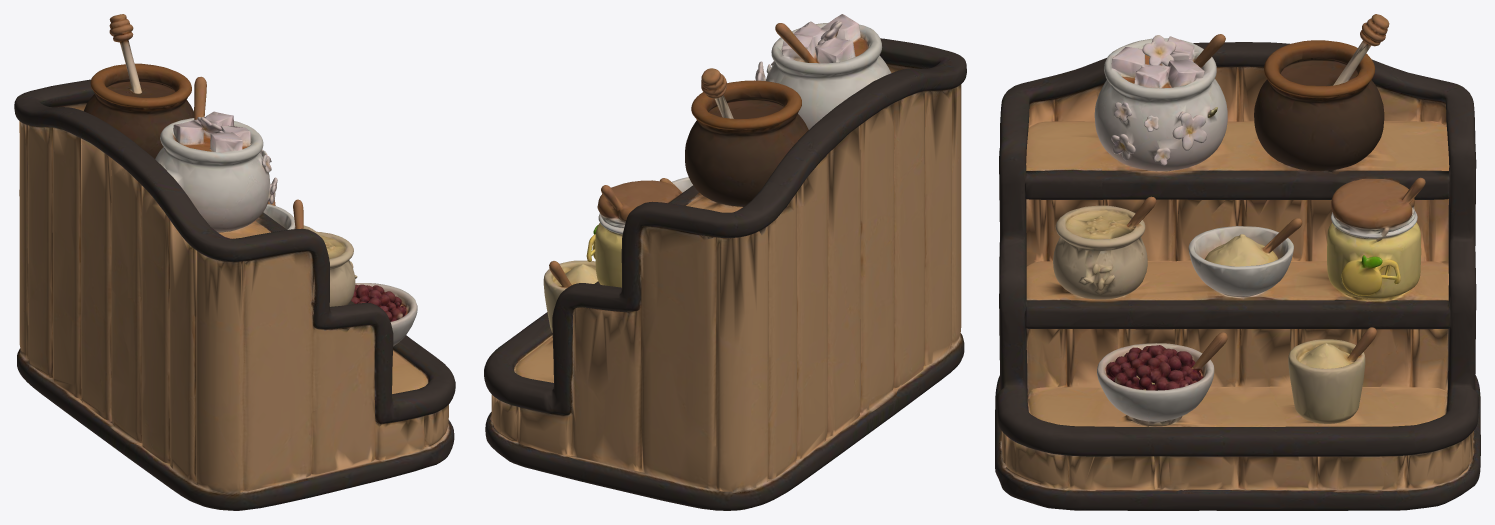
File: JP_사물_s2_station_topping_t3_old.glb
3 views of the same model, side by side, from view 1: azimuth 30°, elevation 25°; view 2: azimuth 150°, elevation 25°; view 3: azimuth 270°, elevation 25° (orthographic). The views are drawn at different scales.
Parts seen in each view (by area): view 1: tripo_node_412acc10-7cab-40c4-bae2-b446d2ee2427; view 2: tripo_node_412acc10-7cab-40c4-bae2-b446d2ee2427; view 3: tripo_node_412acc10-7cab-40c4-bae2-b446d2ee2427.
Part boxes in pixels (x1,y1,x2,y2): tripo_node_412acc10-7cab-40c4-bae2-b446d2ee2427: (14, 14, 455, 510); tripo_node_412acc10-7cab-40c4-bae2-b446d2ee2427: (484, 14, 966, 510); tripo_node_412acc10-7cab-40c4-bae2-b446d2ee2427: (995, 14, 1480, 510).
Bounding box in the file's own units: 0.7035 × 0.9004 × 0.9998.
Materials: 1 (1 with a texture image).
